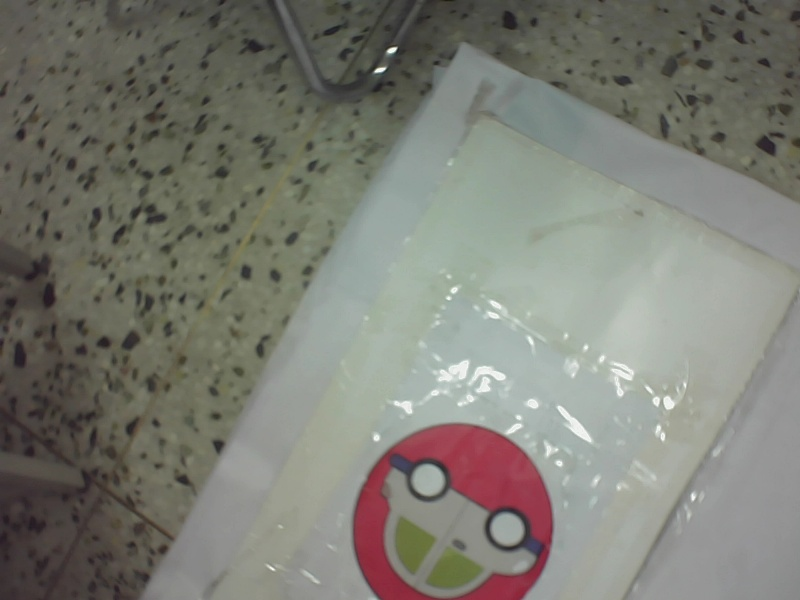areaC: (345, 421, 562, 599)
